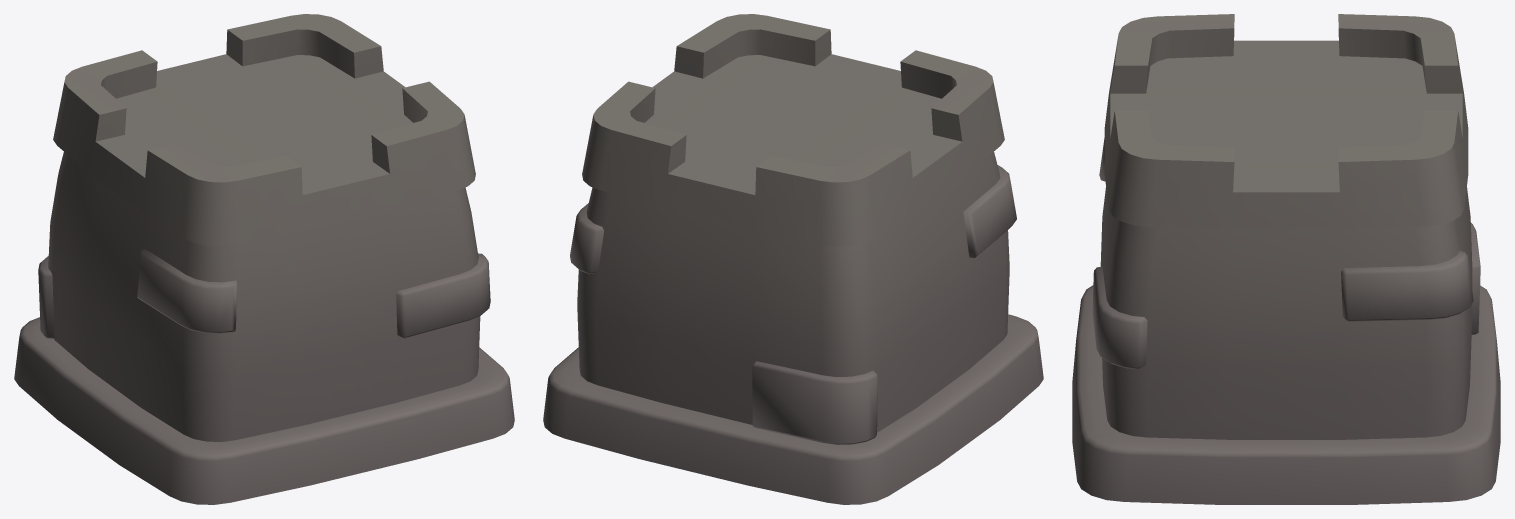
File: mageTower_1.fbx
3 renders of one model, left to right at view 1: azimuth 30°, elevation 25°; view 2: azimuth 150°, elevation 25°; view 3: azimuth 270°, elevation 25°, orthographic. The views are drawn at different scales.
Visible parts, largest first — view 1: mageTower_lvl1; view 2: mageTower_lvl1; view 3: mageTower_lvl1.
Boxes of the visible parts, x1,y1,x2,y2 form: mageTower_lvl1: (14,14,514,504); mageTower_lvl1: (543,14,1043,504); mageTower_lvl1: (1072,14,1500,504).
Size of the model in its own units: 161 by 132 by 158.
